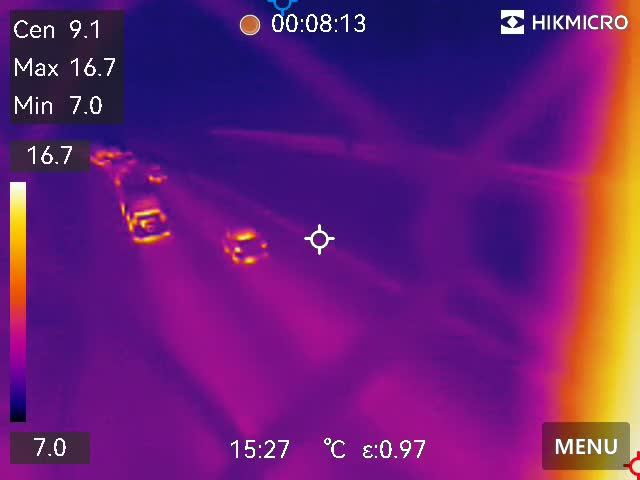vehicle: (113, 172, 172, 249), (218, 221, 269, 266), (145, 159, 168, 183)
